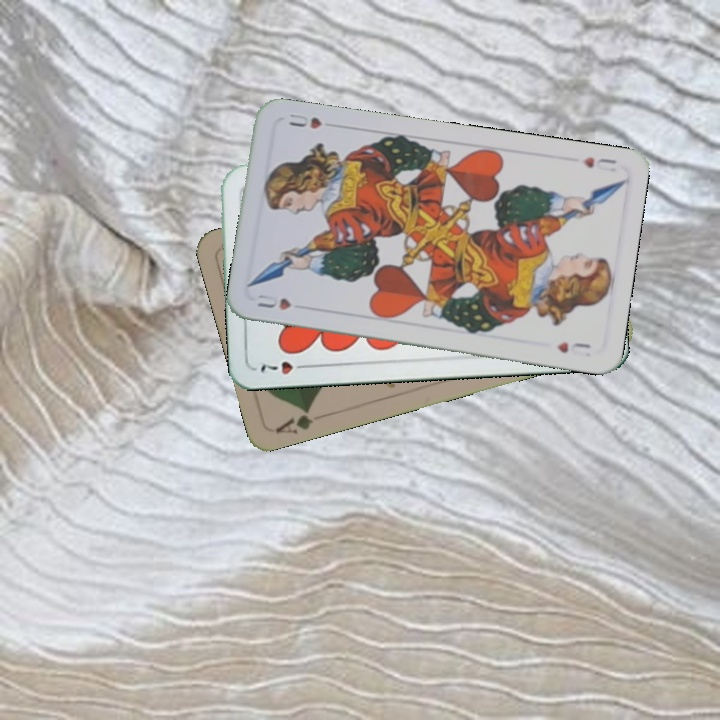GA: (271, 403, 316, 437)
H7: (256, 357, 313, 378)
HU: (253, 290, 294, 313), (578, 152, 619, 174)
